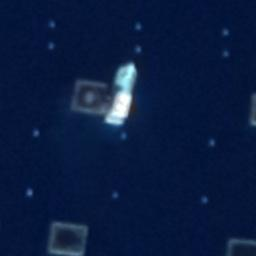square_cover: (44, 214, 95, 256), (67, 75, 115, 118), (222, 234, 256, 256)
